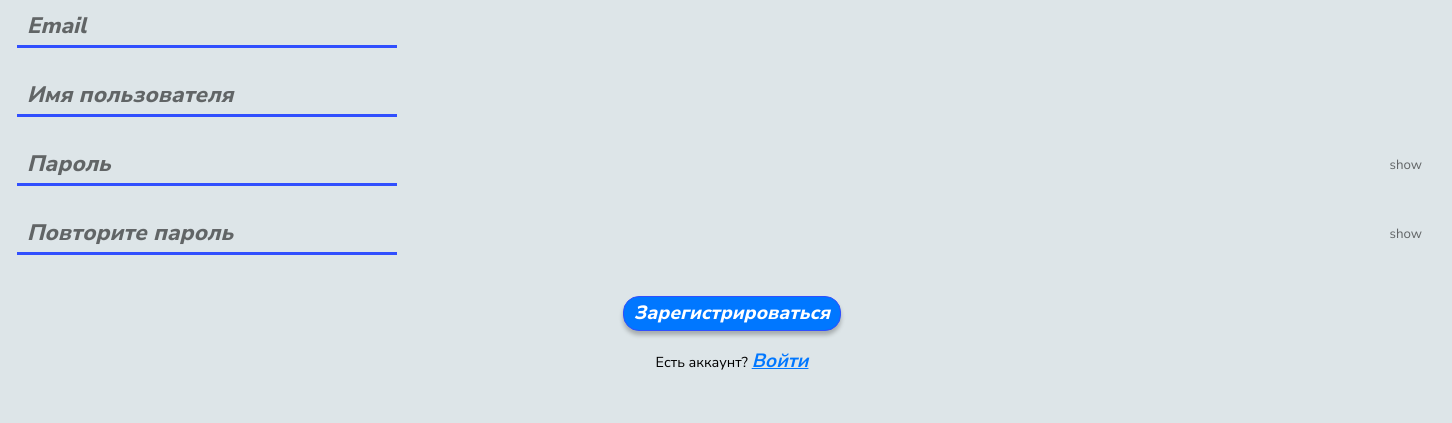
Test: RegisterForm › should show an "email taken" error message when the mutation rejects with a 409 HttpError
The width and height of the screenshot is (1452, 423).
Type "user@example.com" into the field with placeholder "Email" at (207, 26), box [17,5,397,48]
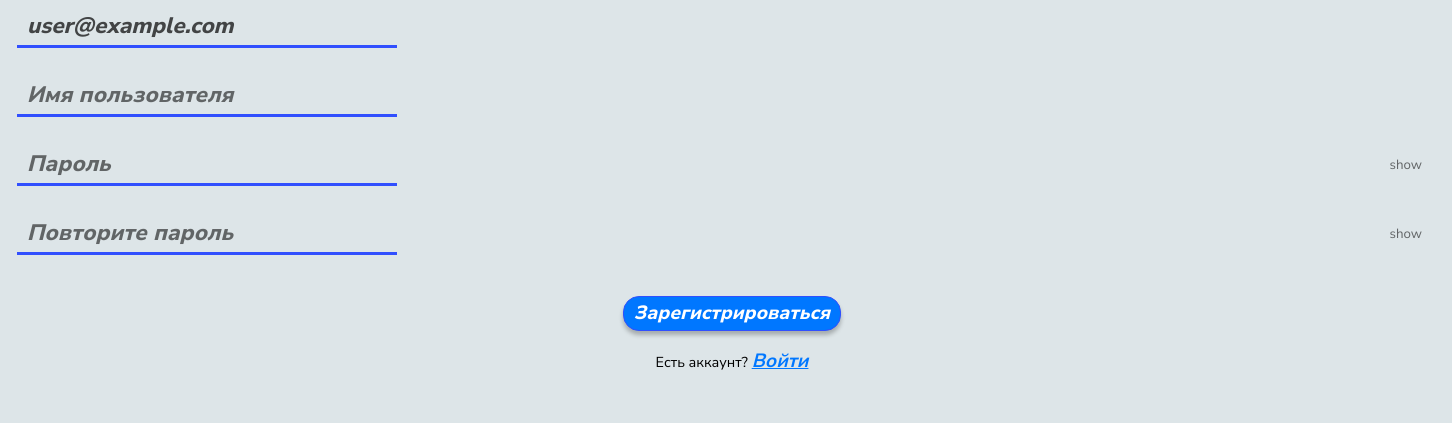
Type "validuser" into the field with placeholder "Имя пользователя" at (207, 96), box [17,74,397,117]
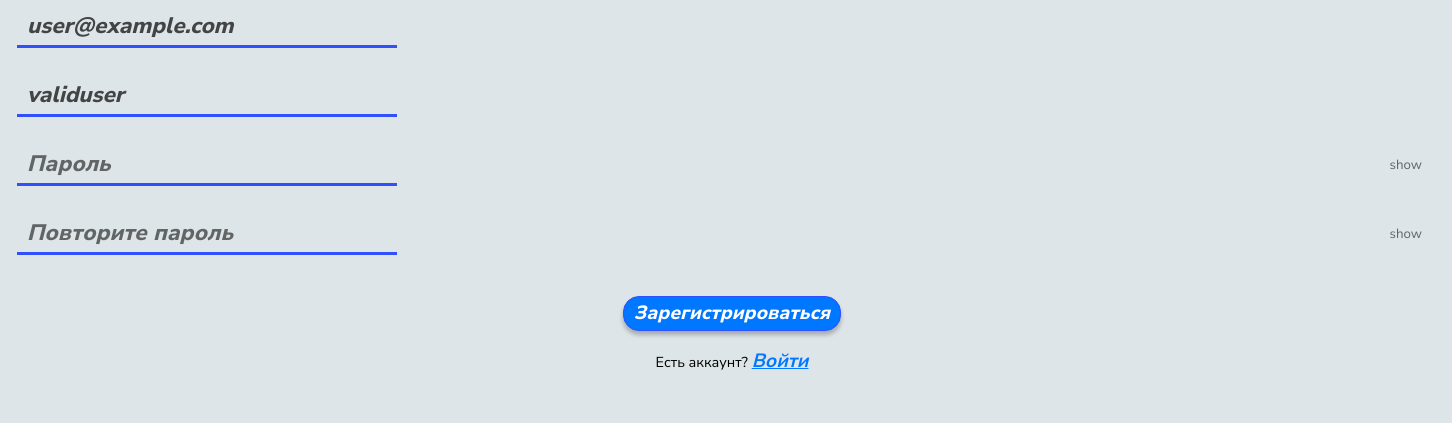
Type "secret1" into the password field with placeholder "Пароль" at (207, 164), box [17,143,397,186]
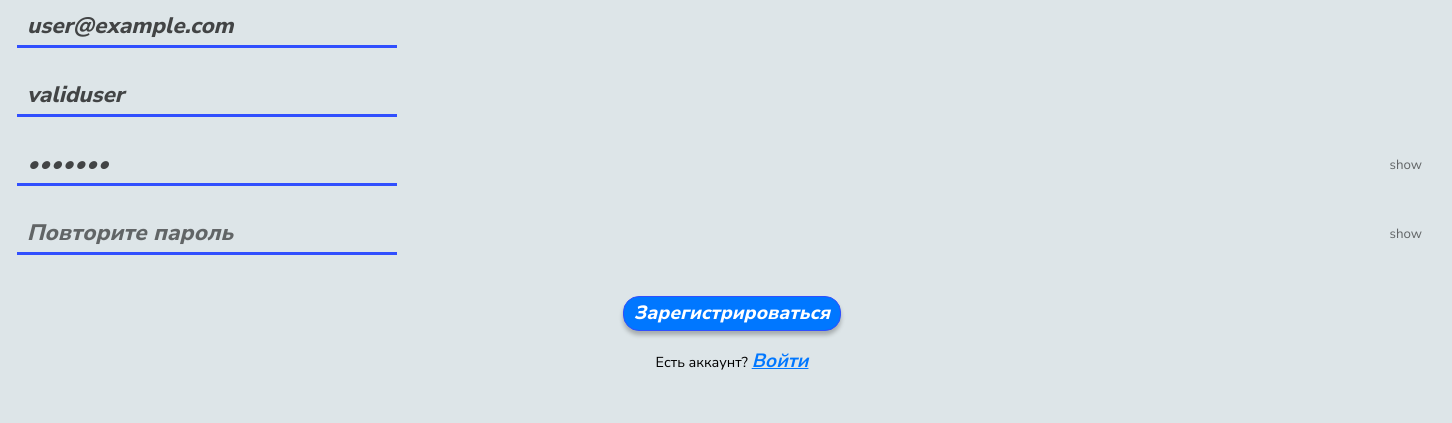
Type "secret1" into the password field with placeholder "Повторите пароль" at (207, 234), box [17,212,397,255]
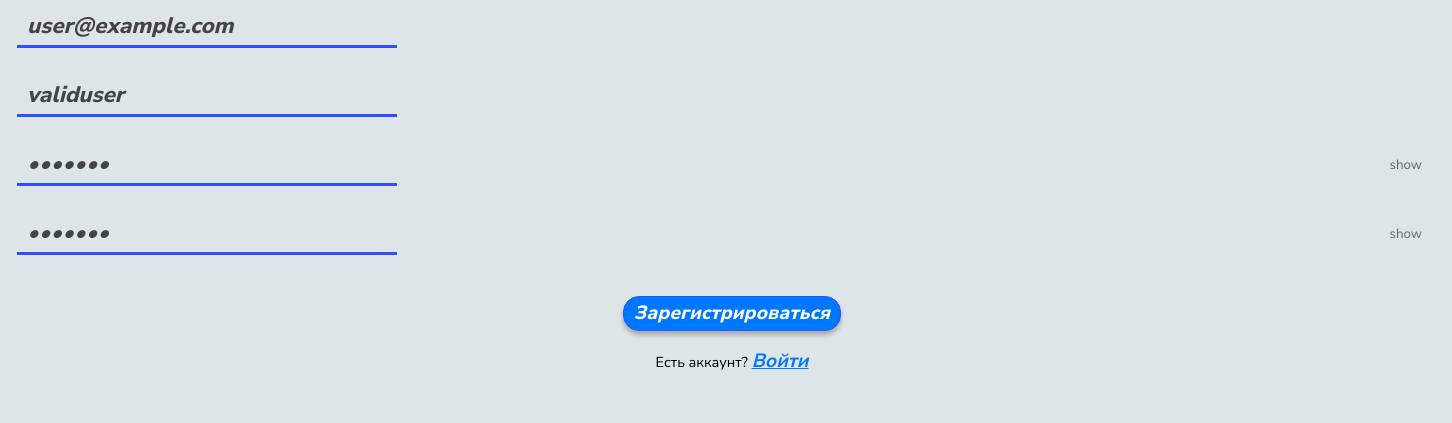
Click the button "Зарегистрироваться" at (732, 313), box [623,296,841,331]
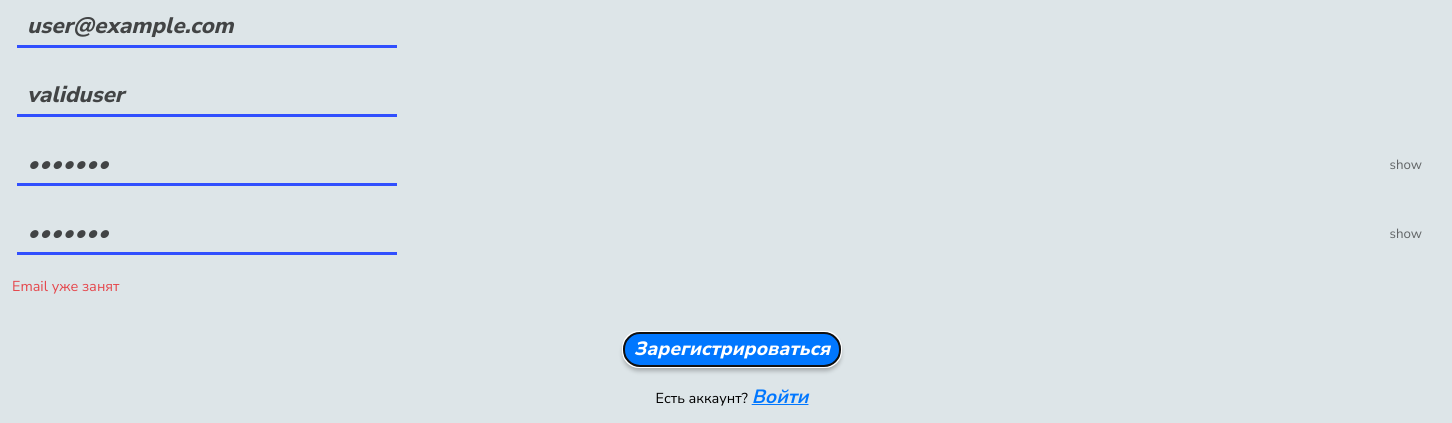
Result: the text "Email уже занят" is shown at [12,276,1451,296]
